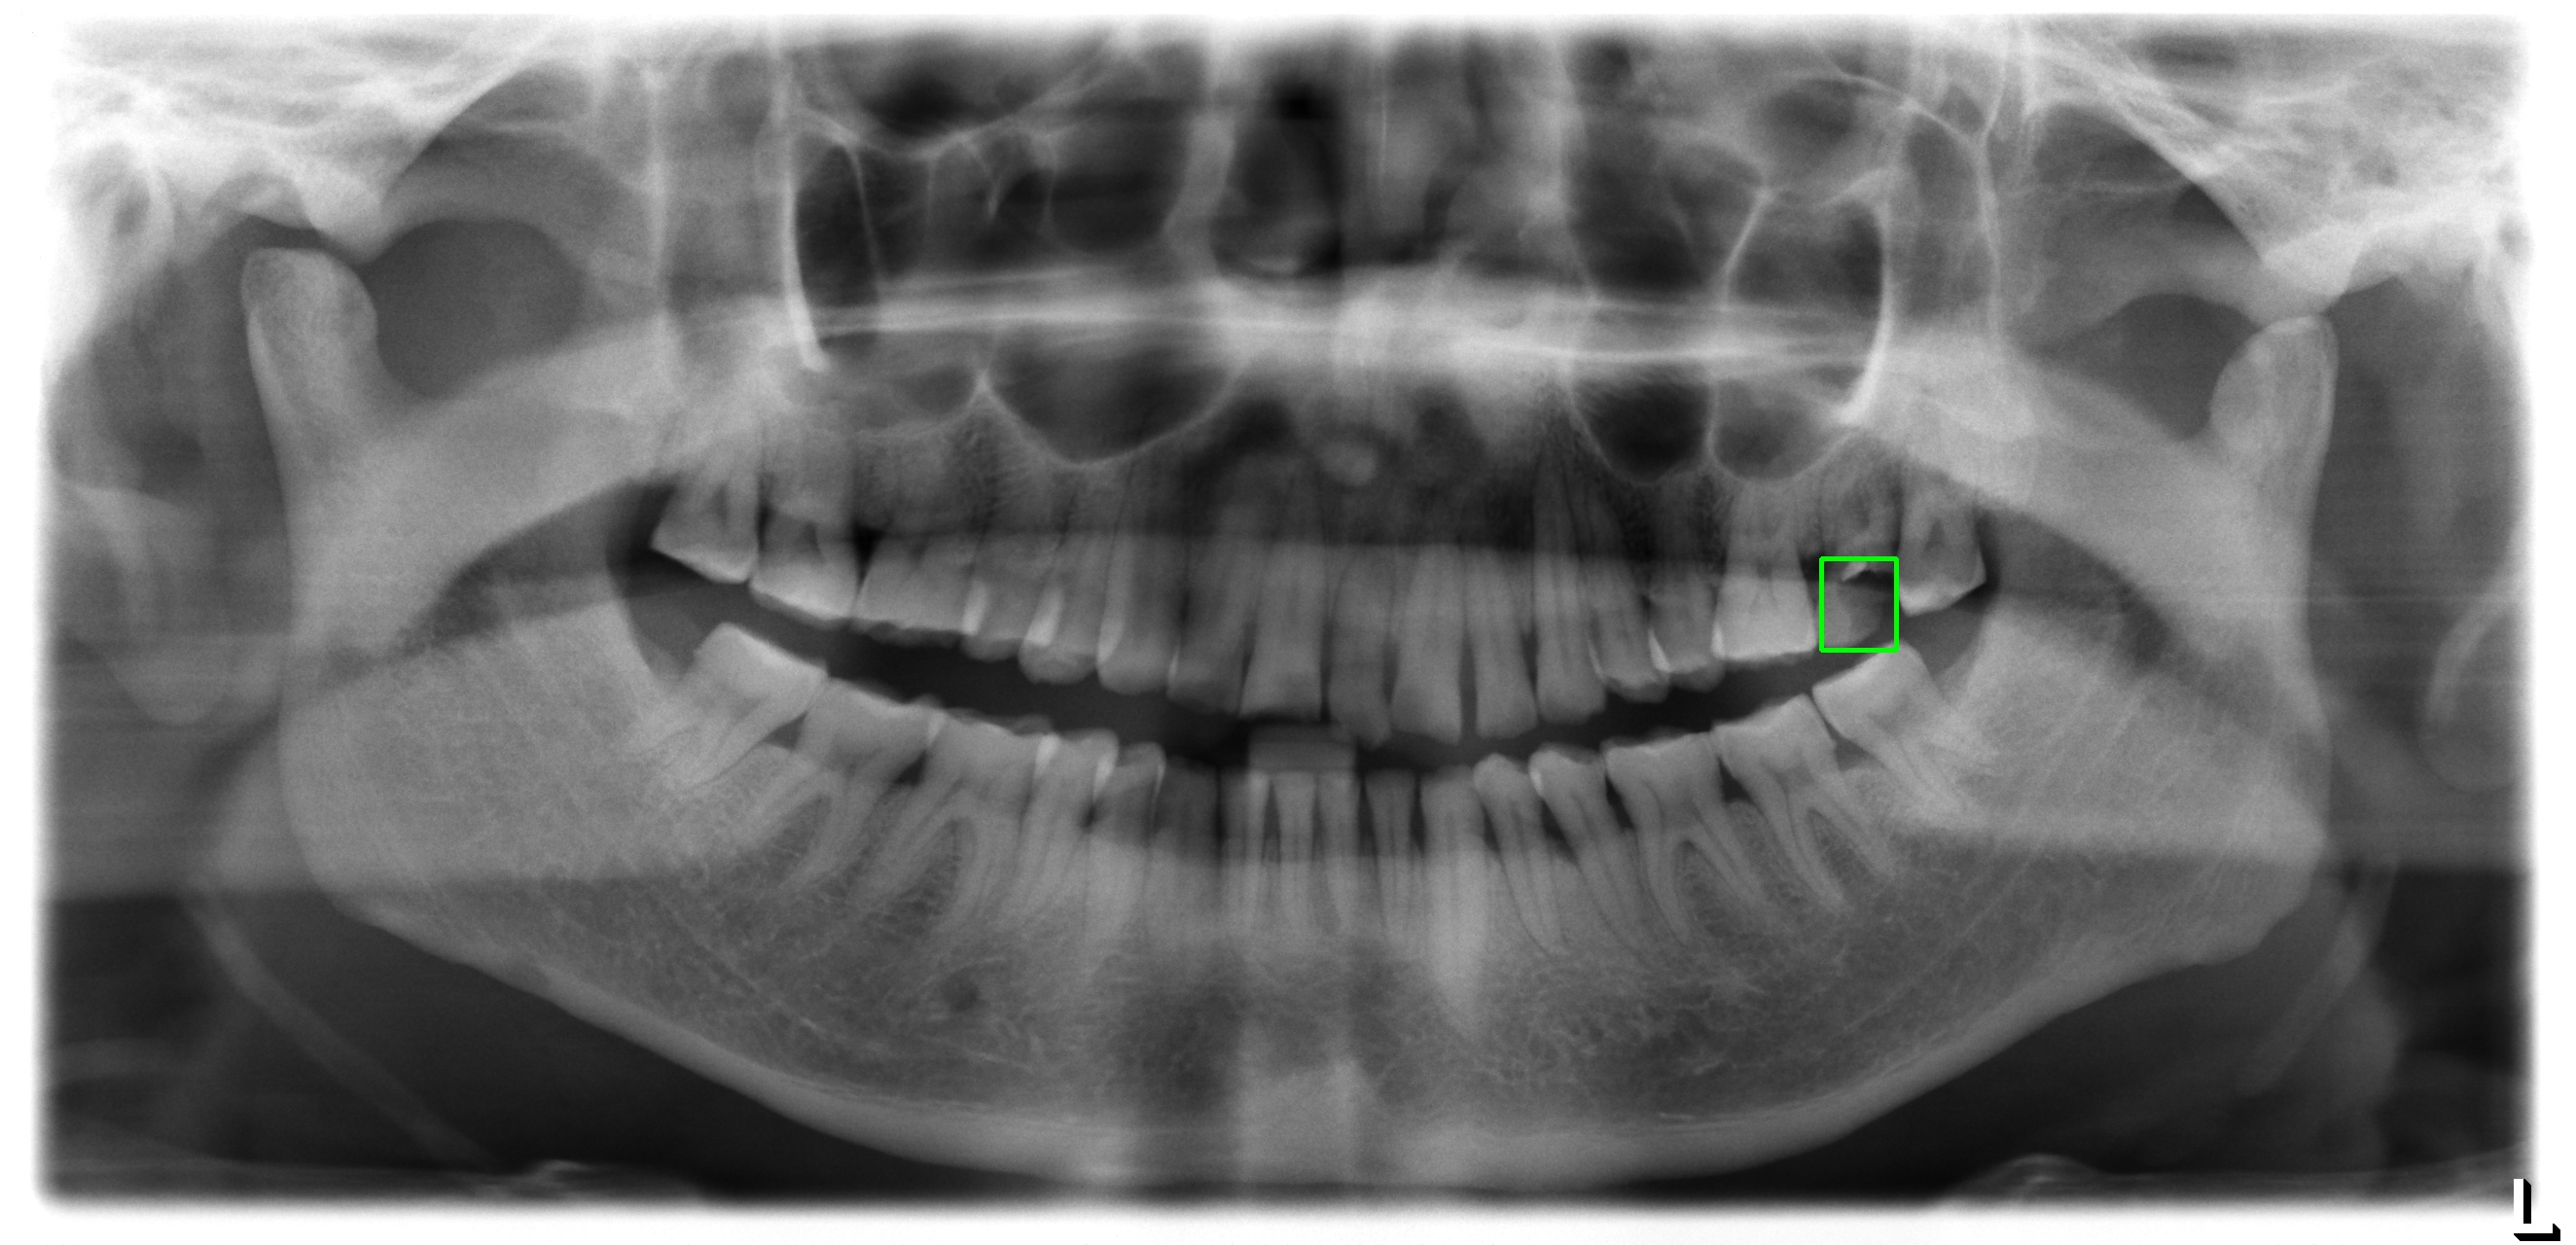Decay: (1820, 558, 1896, 650)
